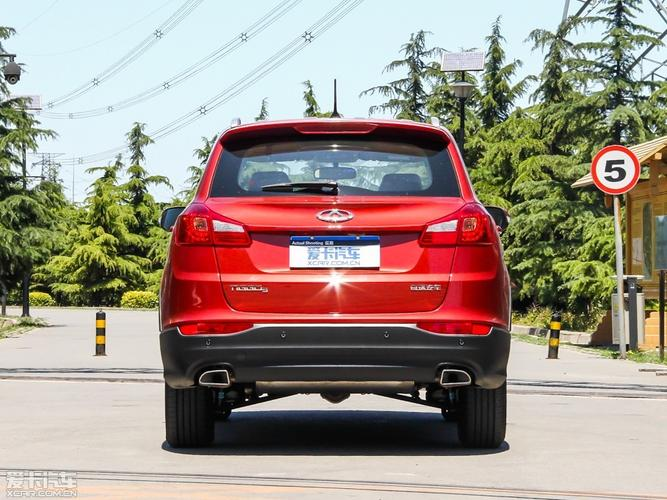汽车: (160, 119, 521, 452)
